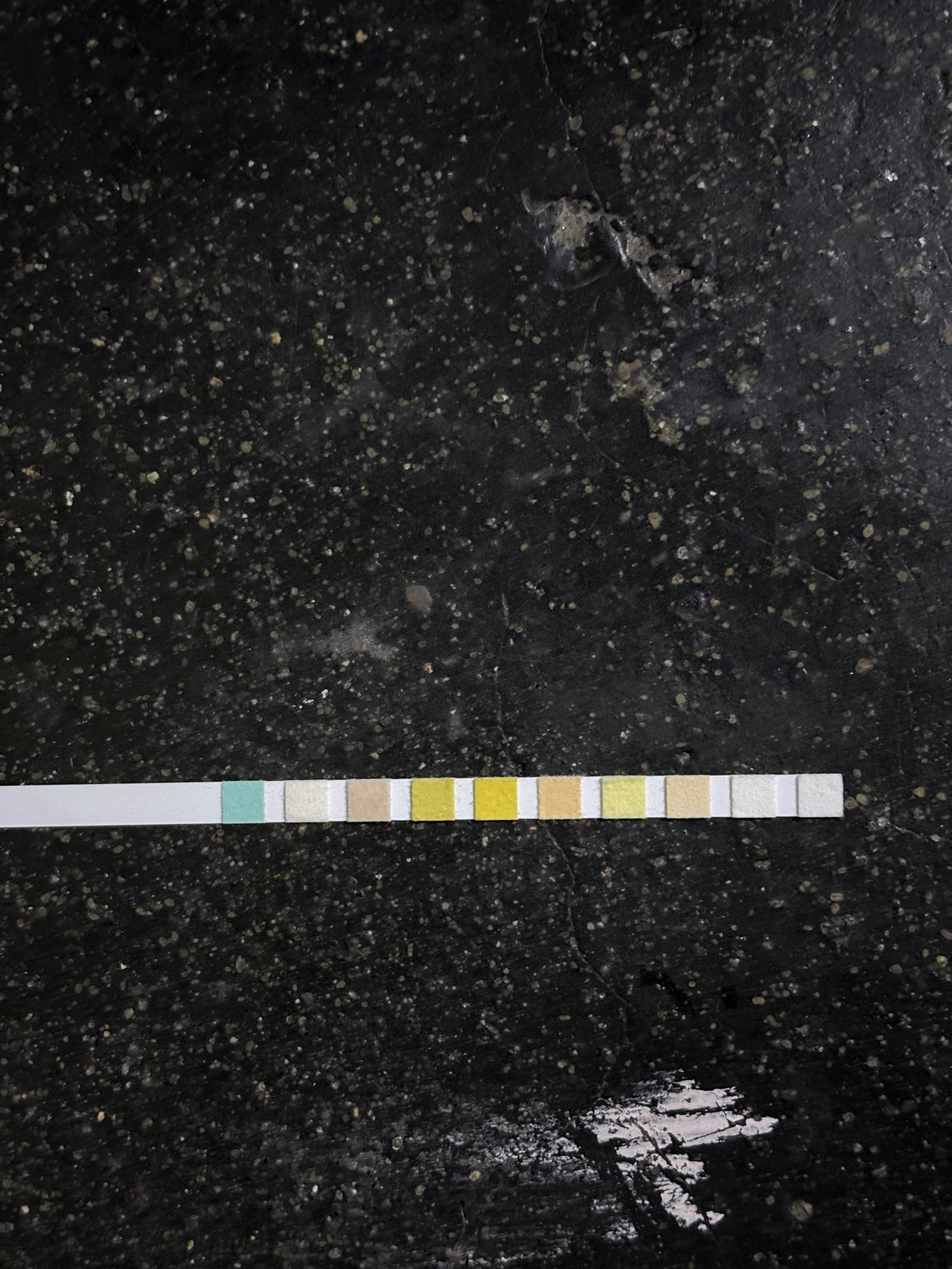Bilirubin: (287, 782, 325, 821)
Blood: (477, 780, 515, 818)
Glucose: (224, 783, 262, 821)
Ketone: (351, 782, 389, 820)
Leukocytes: (802, 776, 840, 815)
Nitrite: (735, 777, 773, 815)
Protein: (604, 778, 642, 817)
SpGravity: (413, 781, 451, 819)
Urobilinogen: (670, 778, 707, 817)
pH: (541, 779, 579, 817)
strip: (18, 775, 843, 826)
